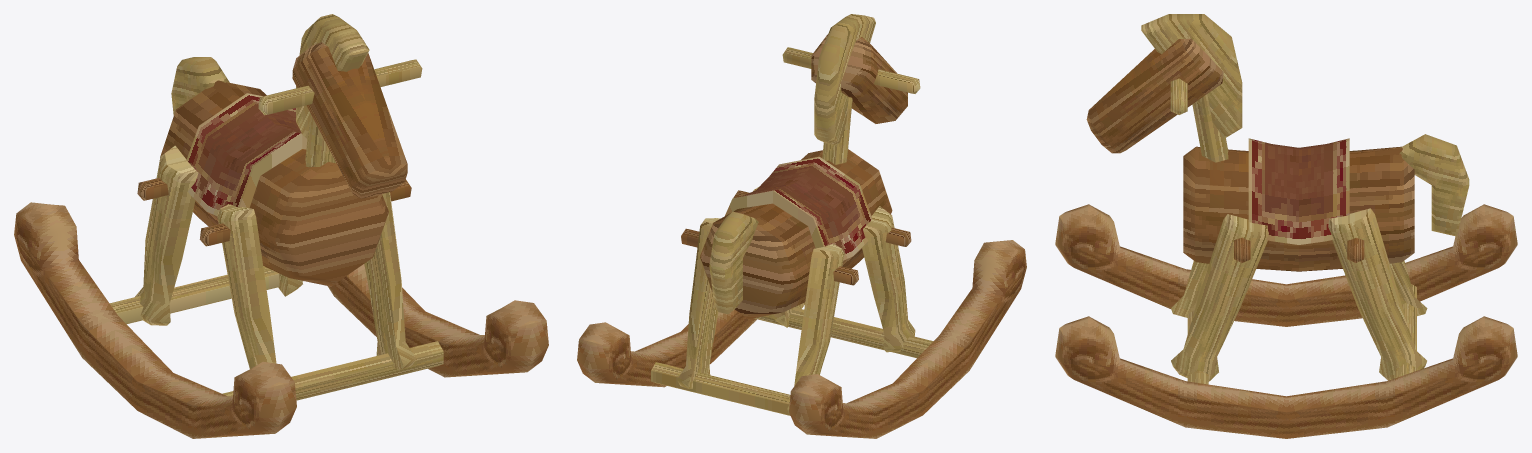
The model's file is moku24.glb.
3 renders of one model, left to right at view 1: azimuth 30°, elevation 25°; view 2: azimuth 150°, elevation 25°; view 3: azimuth 270°, elevation 25°, orthographic. The views are drawn at different scales.
Visible parts, largest first — view 1: moku24; view 2: moku24; view 3: moku24.
Boxes of the visible parts, <box> form: moku24: <box>14,14,548,438</box>; moku24: <box>577,14,1026,438</box>; moku24: <box>1055,14,1517,438</box>.
Size of the model in its own units: 150 by 188 by 220.
Materials: 3 (3 with a texture image).
